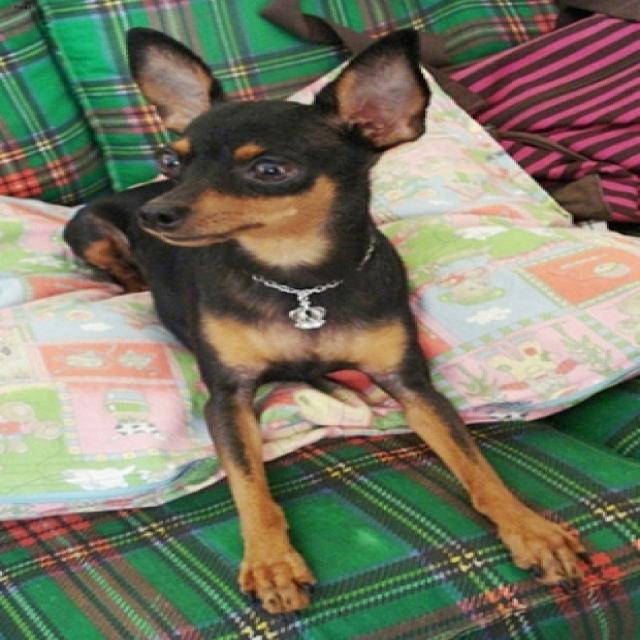dog-miniature_pinscher: (45, 12, 586, 626)
